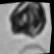correct: (3, 0, 54, 44)
